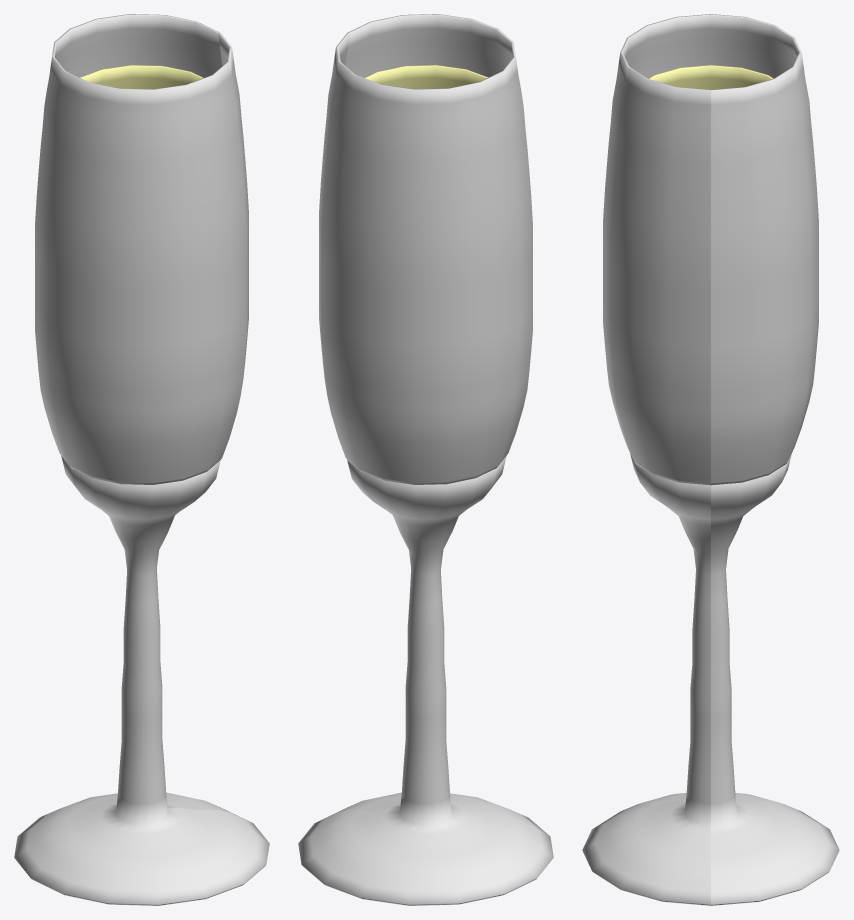
The model's file is Espumante.fbx.
3 renders of one model, left to right at view 1: azimuth 30°, elevation 25°; view 2: azimuth 150°, elevation 25°; view 3: azimuth 270°, elevation 25°, orthographic.
Parts seen in each view (by area): view 1: Glass.004, Glass, Glass.001, Glass.003; view 2: Glass.004, Glass, Glass.001, Glass.003; view 3: Glass.004, Glass, Glass.001, Glass.003.
Part boxes in pixels (bbox=[...]): Glass.004: bbox=[35, 14, 248, 345]; Glass: bbox=[14, 454, 269, 905]; Glass.001: bbox=[35, 296, 248, 483]; Glass.003: bbox=[79, 65, 203, 89]; Glass.004: bbox=[319, 14, 532, 345]; Glass: bbox=[298, 454, 553, 905]; Glass.001: bbox=[319, 296, 532, 483]; Glass.003: bbox=[364, 65, 488, 89]; Glass.004: bbox=[603, 14, 818, 345]; Glass: bbox=[582, 454, 839, 905]; Glass.001: bbox=[603, 300, 818, 483]; Glass.003: bbox=[648, 65, 773, 89].
Bounding box in the file's own units: 53.65 × 184 × 53.66.
